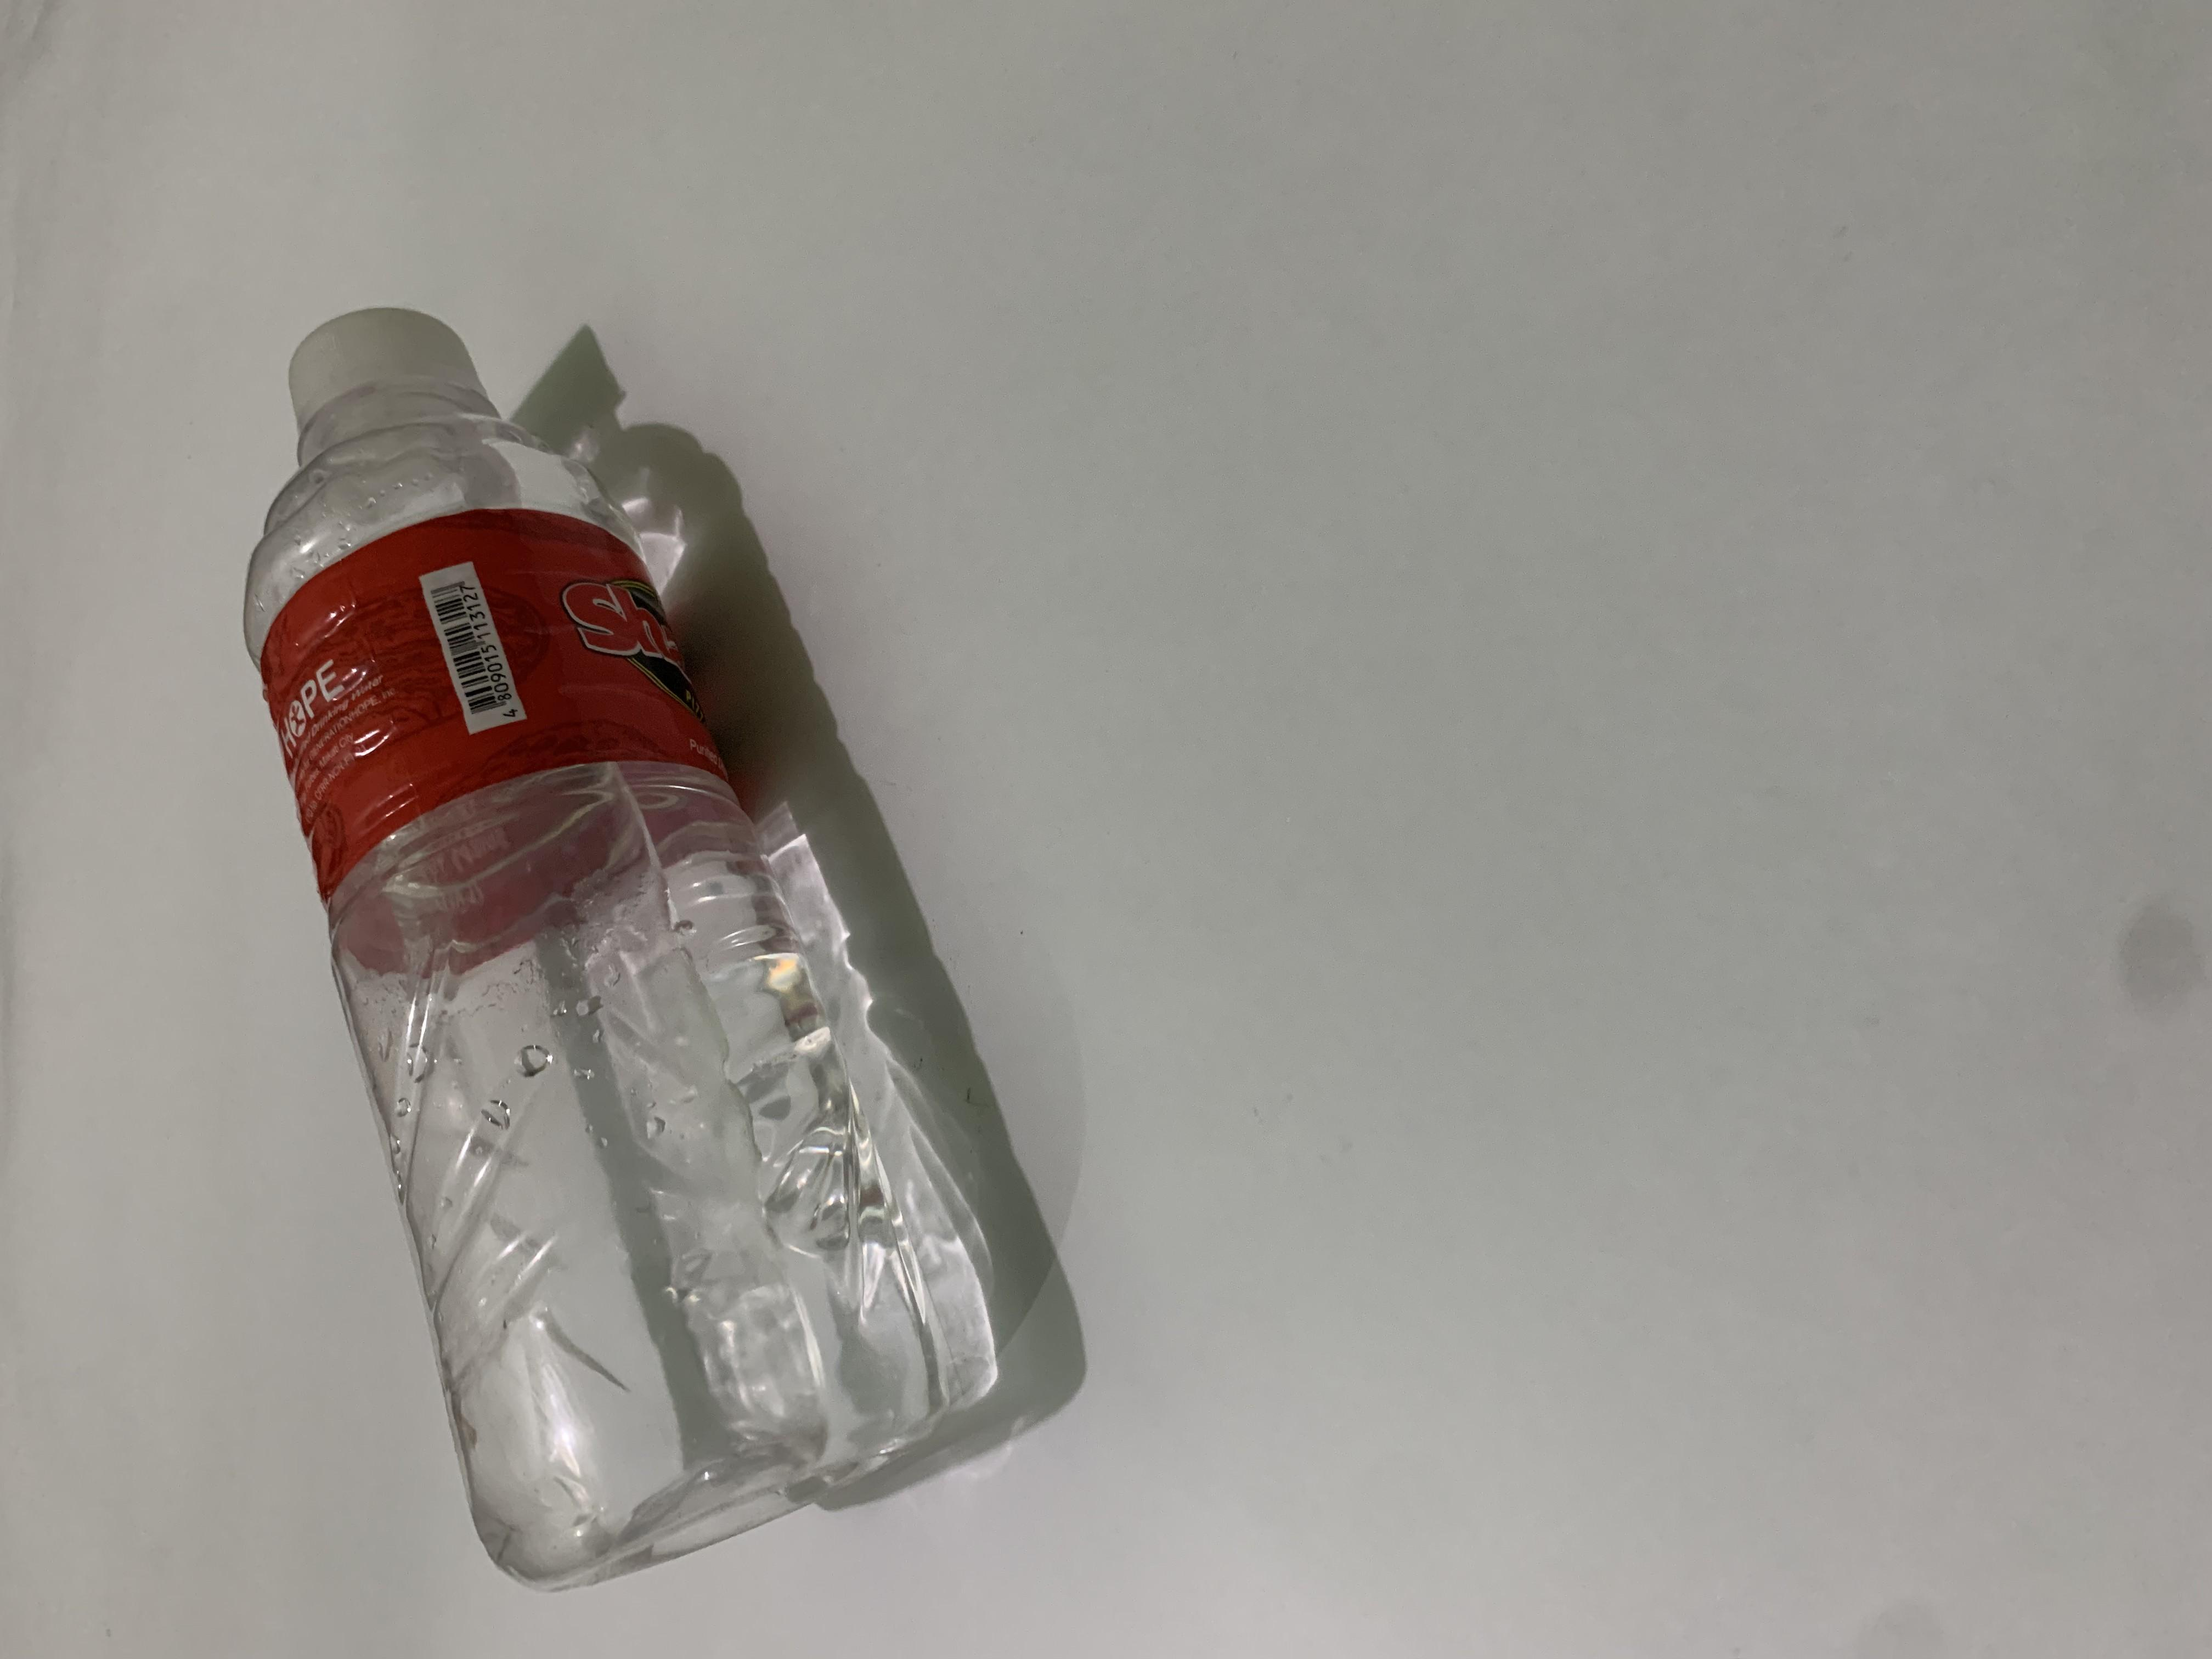bottle: (80, 160, 1815, 704)
